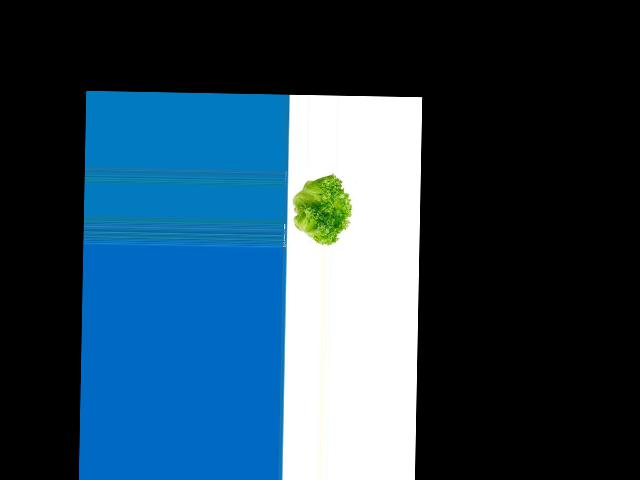lettuce: (287, 175, 354, 245)
